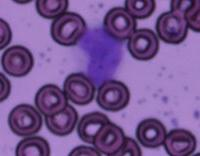M: (74, 25, 125, 87)
